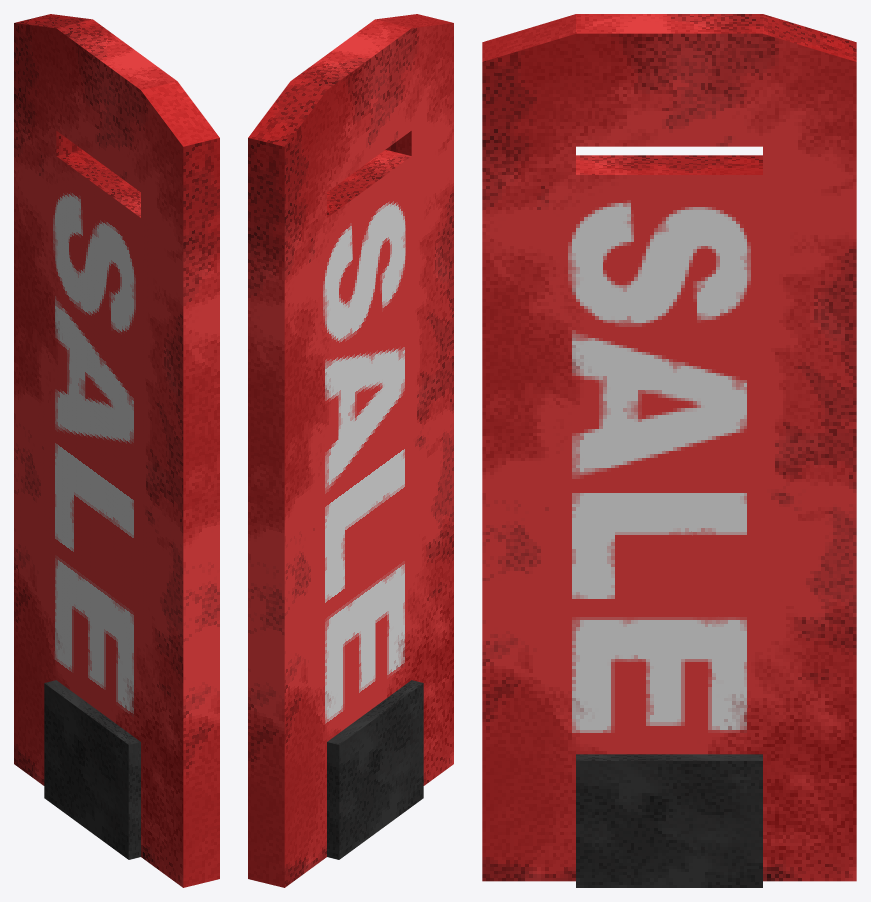
3 renders of one model, left to right at view 1: azimuth 30°, elevation 25°; view 2: azimuth 150°, elevation 25°; view 3: azimuth 270°, elevation 25°, orthographic. The views are drawn at different scales.
Visible parts, largest first — view 1: detector; view 2: detector; view 3: detector.
Boxes of the visible parts, x1,y1,x2,y2 form: detector: [14, 14, 219, 887]; detector: [248, 14, 453, 887]; detector: [482, 14, 856, 887].
Size of the model in its own units: 0.1562 by 1.88 by 0.75.
1 material, 1 textured.
